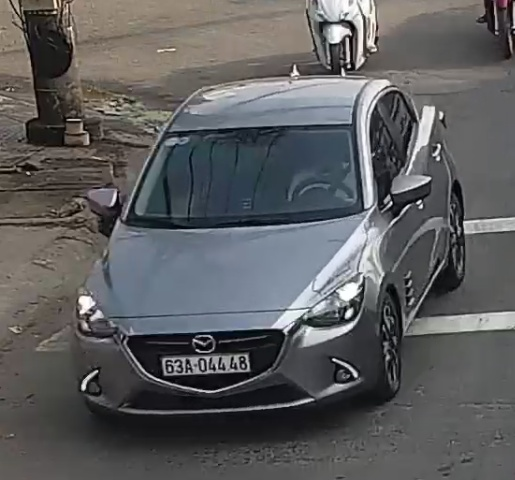vehicle plate: (154, 349, 258, 380)
